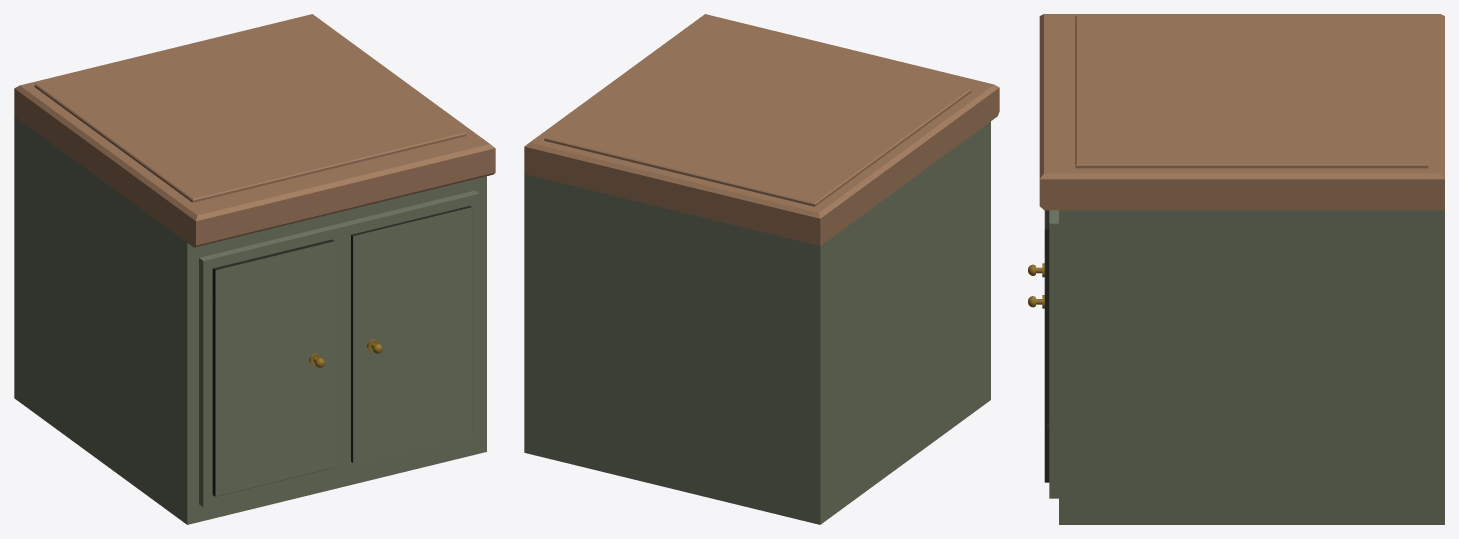
The model's file is Counter.glb.
3 renders of one model, left to right at view 1: azimuth 30°, elevation 25°; view 2: azimuth 150°, elevation 25°; view 3: azimuth 270°, elevation 25°, orthographic. The views are drawn at different scales.
Parts seen in each view (by area): view 1: Counter; view 2: Counter; view 3: Counter.
Boxes of the visible parts, bbox=[...] form: Counter: bbox=[14, 14, 495, 524]; Counter: bbox=[524, 14, 999, 524]; Counter: bbox=[1028, 14, 1444, 524].
Size of the model in its own units: 1 by 1.01 by 1.08.
1 material, 1 textured.
